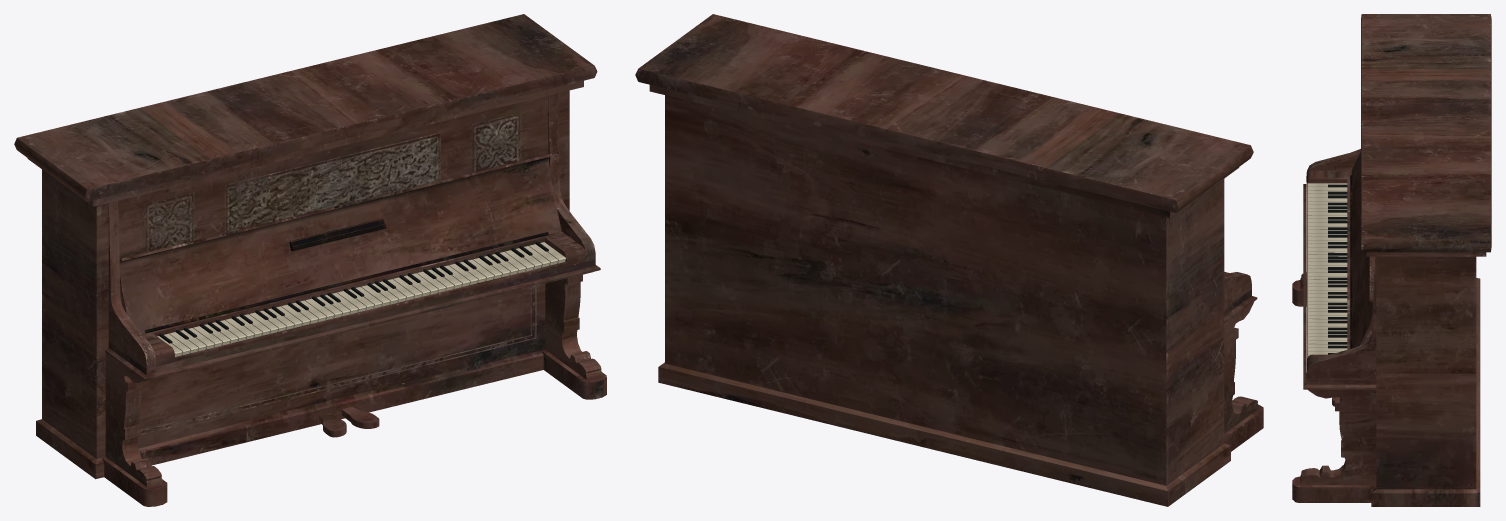
The model's file is pianoforte.glb.
3 views of the same model, side by side, from view 1: azimuth 30°, elevation 25°; view 2: azimuth 150°, elevation 25°; view 3: azimuth 270°, elevation 25° (orthographic). The views are drawn at different scales.
Visible parts, largest first — view 1: PianoLP_Piaino_0; view 2: PianoLP_Piaino_0; view 3: PianoLP_Piaino_0.
Boxes of the visible parts, x1,y1,x2,y2 form: PianoLP_Piaino_0: (14, 14, 606, 506); PianoLP_Piaino_0: (635, 14, 1263, 506); PianoLP_Piaino_0: (1292, 14, 1491, 506).
Size of the model in its own units: 217 by 120 by 79.55.
1 material, 1 textured.
